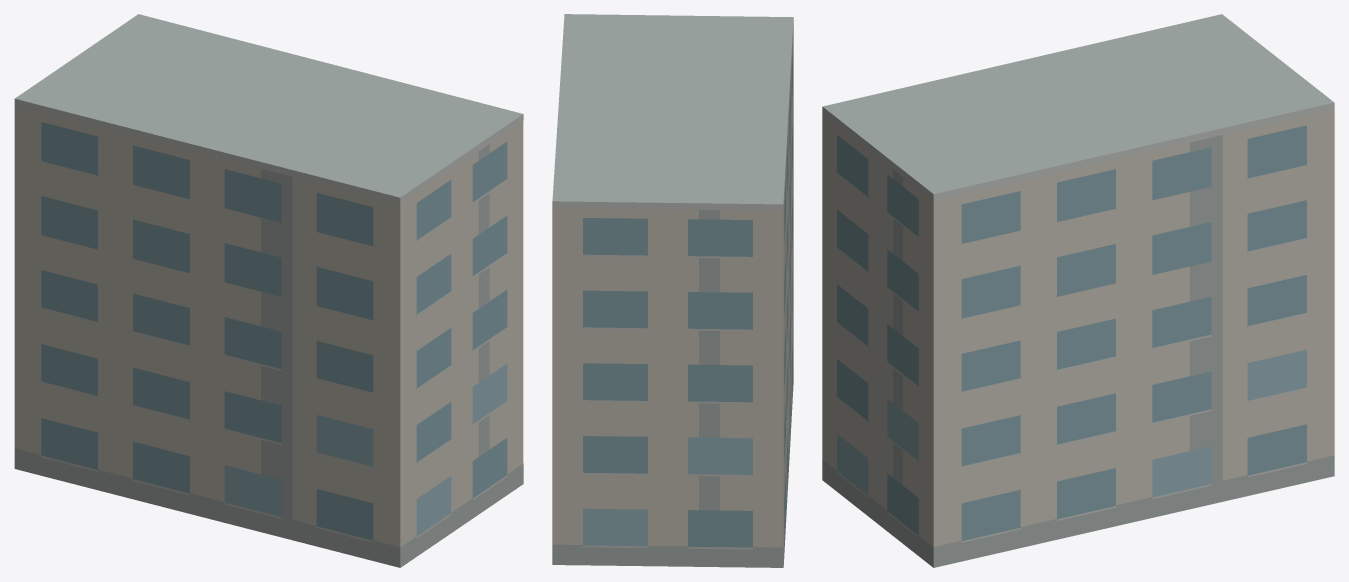
File: survey-upis-32997414.glb
3 renders of one model, left to right at view 1: azimuth 30°, elevation 25°; view 2: azimuth 150°, elevation 25°; view 3: azimuth 270°, elevation 25°, orthographic. The views are drawn at different scales.
Parts seen in each view (by area): view 1: survey-upis-32997414.tmp; view 2: survey-upis-32997414.tmp; view 3: survey-upis-32997414.tmp.
Boxes of the visible parts, x1=… form: survey-upis-32997414.tmp: x1=14, y1=14, x2=523, y2=567; survey-upis-32997414.tmp: x1=552, y1=14, x2=793, y2=567; survey-upis-32997414.tmp: x1=822, y1=14, x2=1334, y2=567.
Size of the model in its own units: 13.72 by 13.25 by 16.47.
